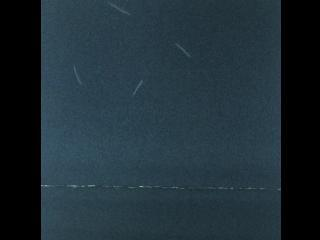crack: (40, 171, 281, 203)
scratch: (168, 37, 198, 63), (65, 63, 92, 90), (101, 0, 138, 19), (127, 76, 147, 101)
